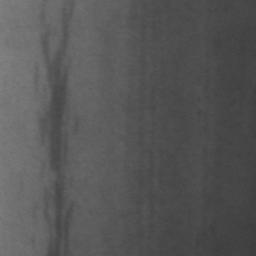Inclusion: (40, 0, 76, 256)
